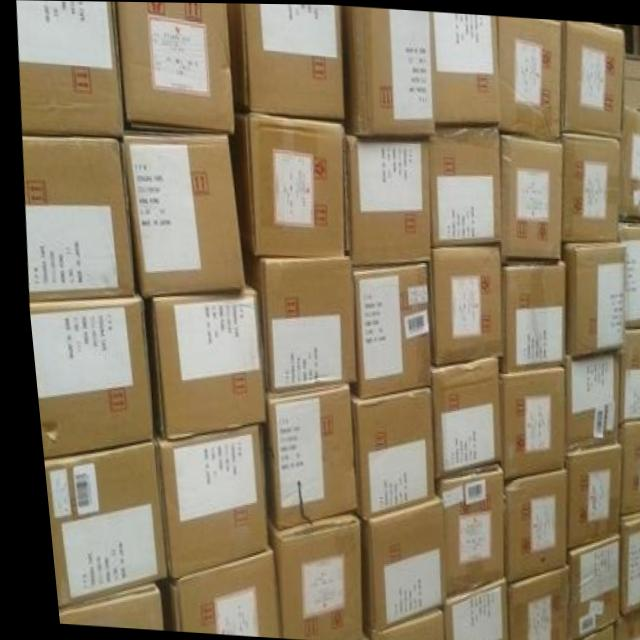box: (35, 438, 156, 608), (23, 297, 145, 461), (118, 131, 237, 293), (137, 284, 259, 441), (20, 138, 130, 305), (143, 423, 258, 579), (224, 111, 340, 258), (237, 242, 348, 391), (116, 1, 231, 132), (18, 0, 121, 139), (252, 384, 347, 528), (230, 3, 342, 123), (342, 7, 433, 137), (256, 513, 349, 640), (342, 130, 426, 266), (349, 496, 433, 629), (340, 262, 423, 396), (343, 386, 424, 517), (154, 551, 266, 636), (425, 462, 493, 600), (424, 243, 498, 361), (494, 131, 561, 261), (424, 125, 495, 245), (425, 357, 493, 479), (496, 18, 562, 140), (559, 20, 624, 137), (555, 239, 619, 356), (493, 261, 561, 371), (433, 13, 498, 126), (493, 365, 557, 478), (495, 467, 557, 581), (556, 131, 617, 240), (556, 441, 611, 548), (556, 348, 613, 450), (555, 535, 609, 640), (46, 584, 152, 627), (494, 566, 555, 640), (434, 578, 494, 640), (609, 509, 640, 612), (609, 418, 640, 515), (615, 101, 640, 218), (614, 215, 640, 325), (612, 325, 640, 419), (350, 609, 431, 640), (601, 605, 640, 640), (621, 52, 640, 109), (563, 623, 600, 640)
